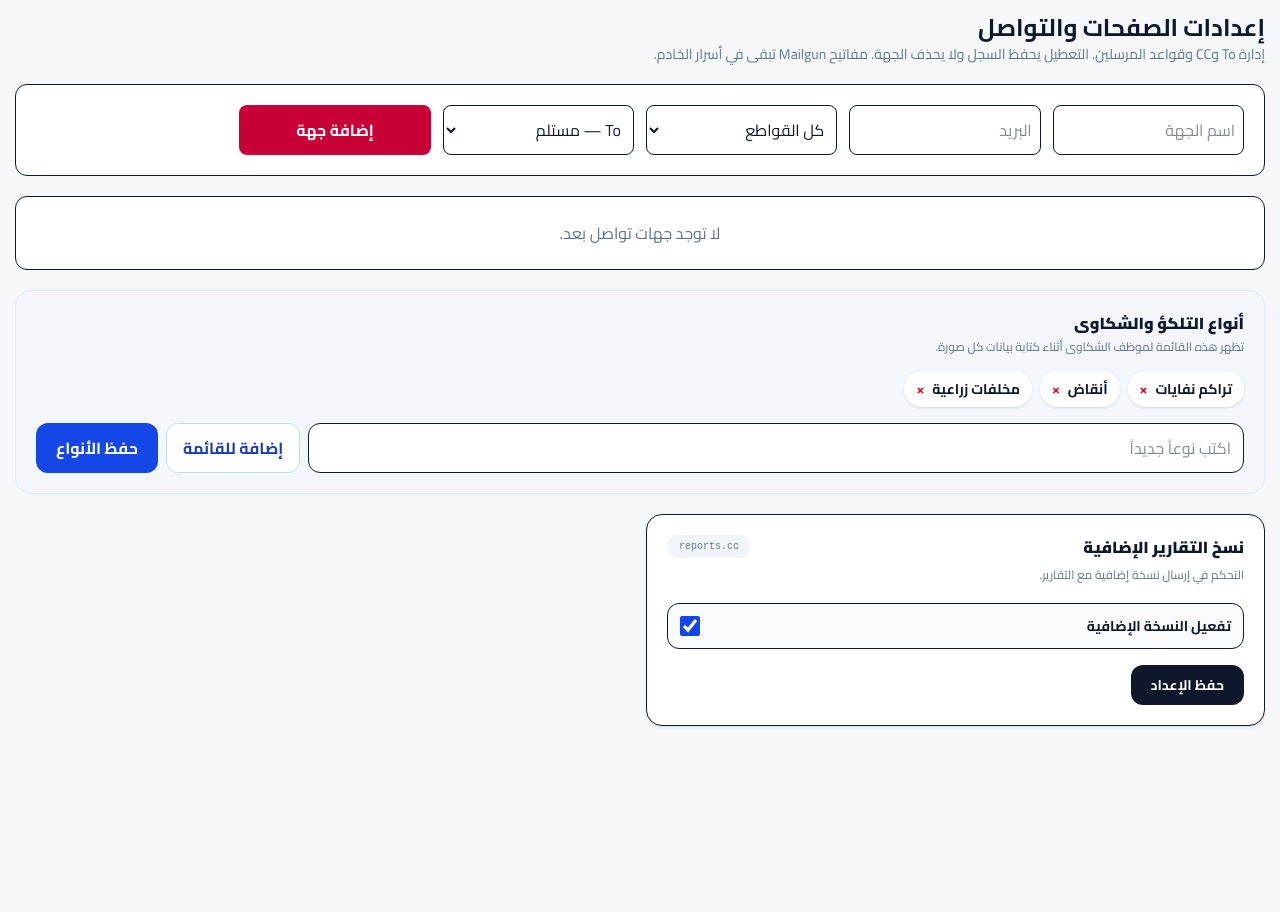
وحدة الإعدادات — البطاقات المرئية › يحفظ التغييرات المرئية ويعرض نجاح وفشل الحفظ
The image size is (1280, 912).
Click the checkbox labelled "تفعيل النسخة الإضافية" at (690, 626), box [680, 616, 700, 636]
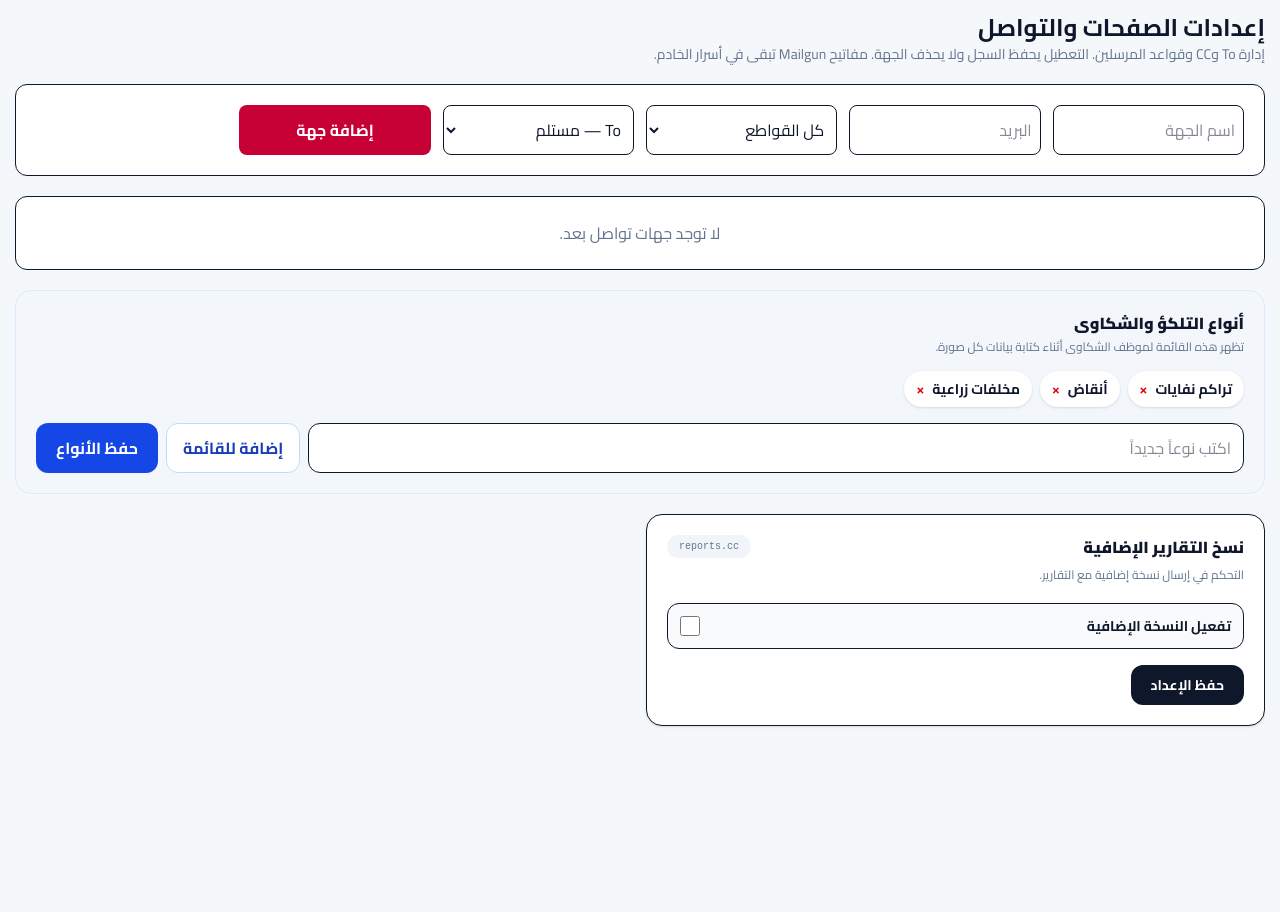
Click the button "حفظ الإعداد" at (1187, 685), box [1130, 665, 1244, 705]
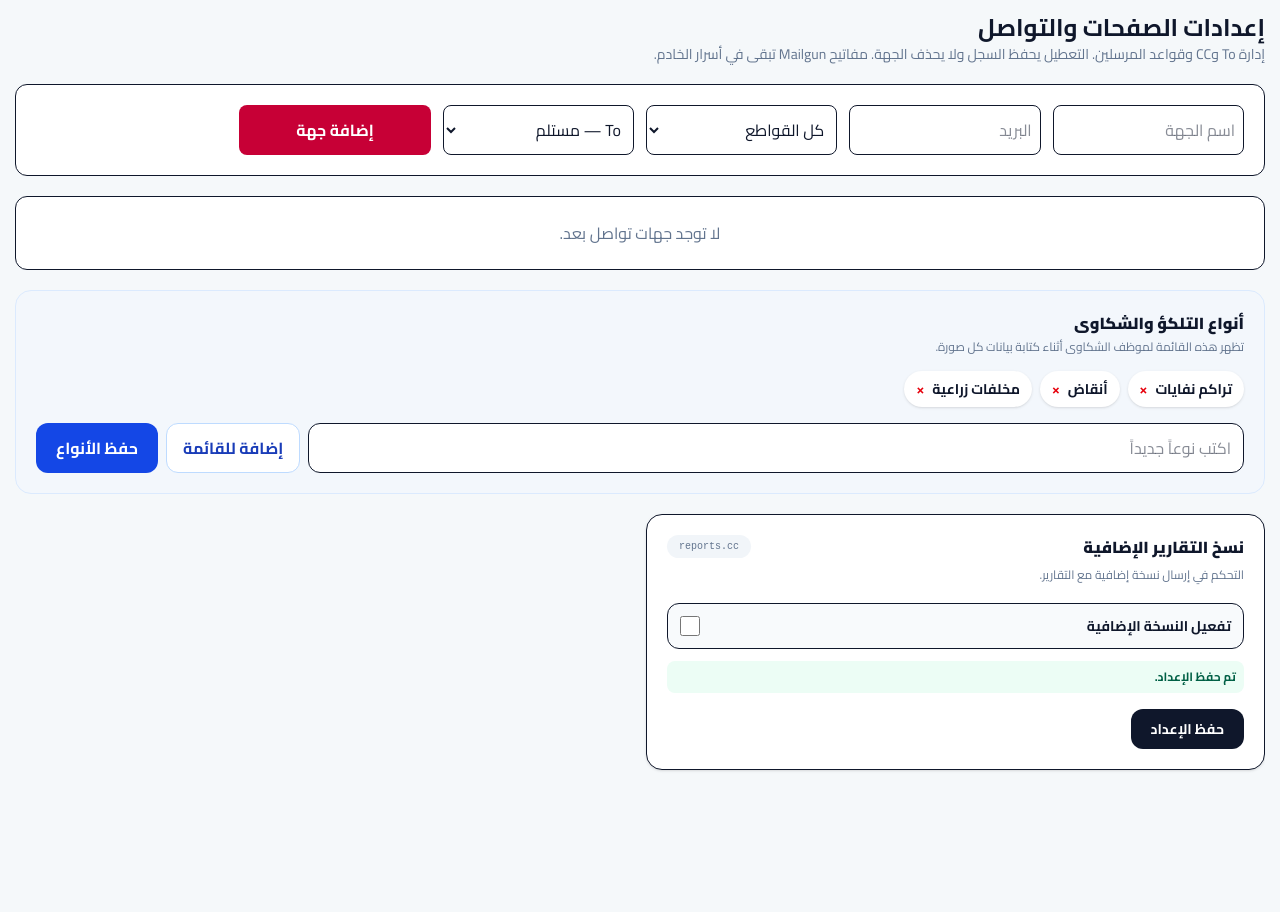
Result: the text "تم حفظ الإعداد." is shown at [667, 661, 1244, 693]
Click the button "حفظ الإعداد" at (1187, 729), box [1130, 709, 1244, 749]
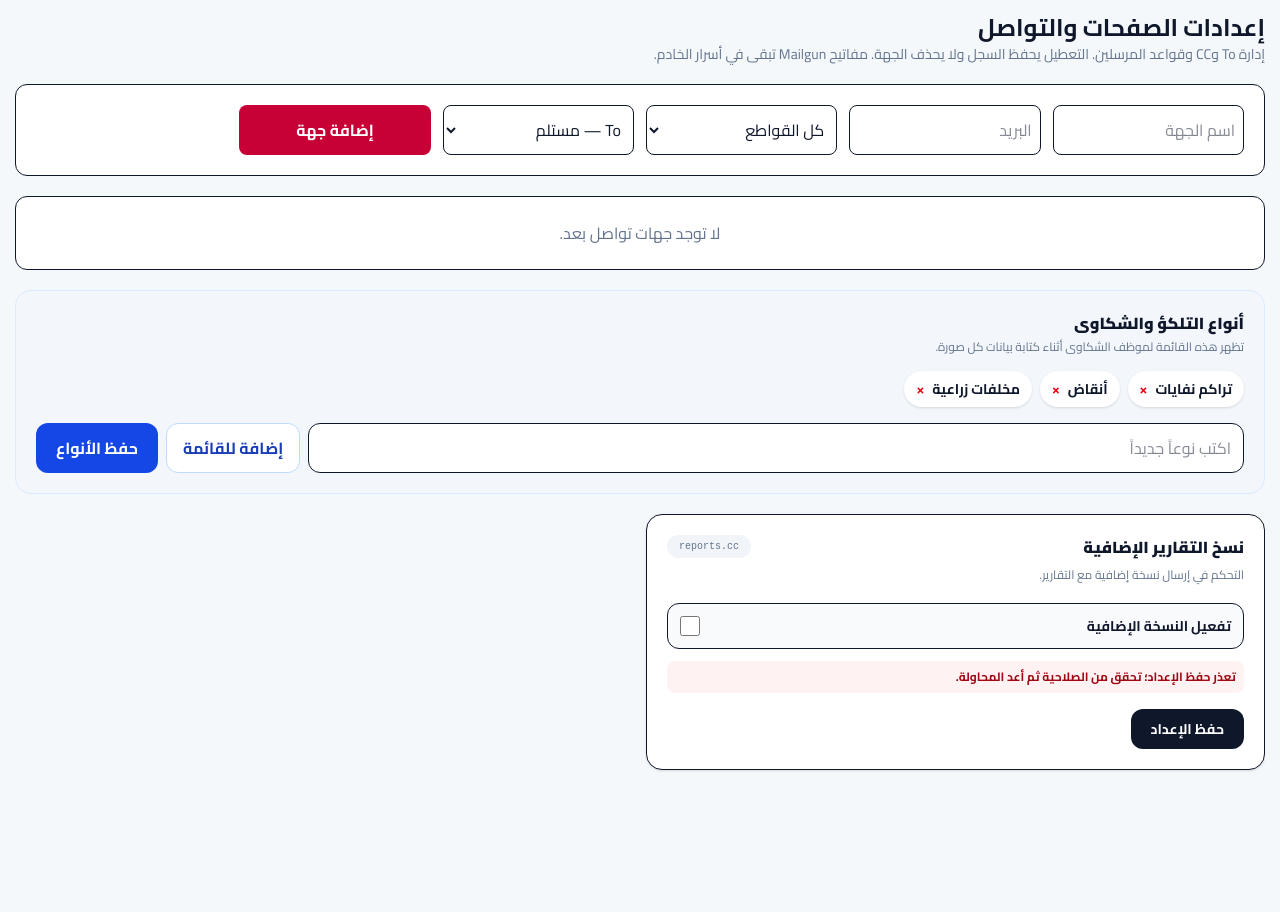
Result: the text "تعذر حفظ الإعداد؛ تحقق من الصلاحية ثم أعد المحاولة." is shown at [667, 661, 1244, 693]
